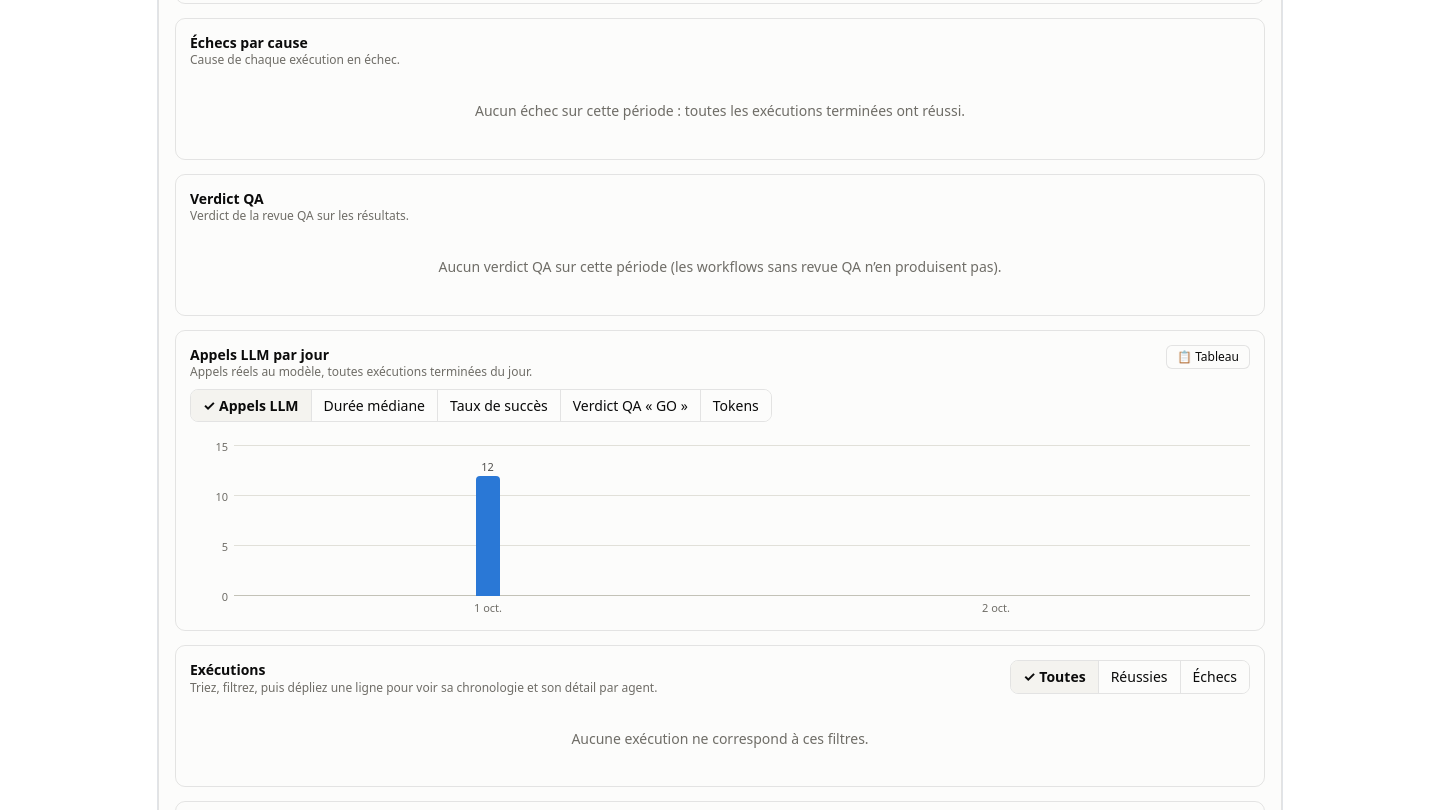
Test case: MetricsPanel — tendances quotidiennes › ne trace pas de colonne un jour sans durée mesurée
The image size is (1440, 810).
(page scrolled)
Expected: the heading "Appels LLM par jour" is shown, [190, 344, 329, 364]
Step 1. Click the button "Durée médiane" → (374,406), box [311, 390, 437, 422]
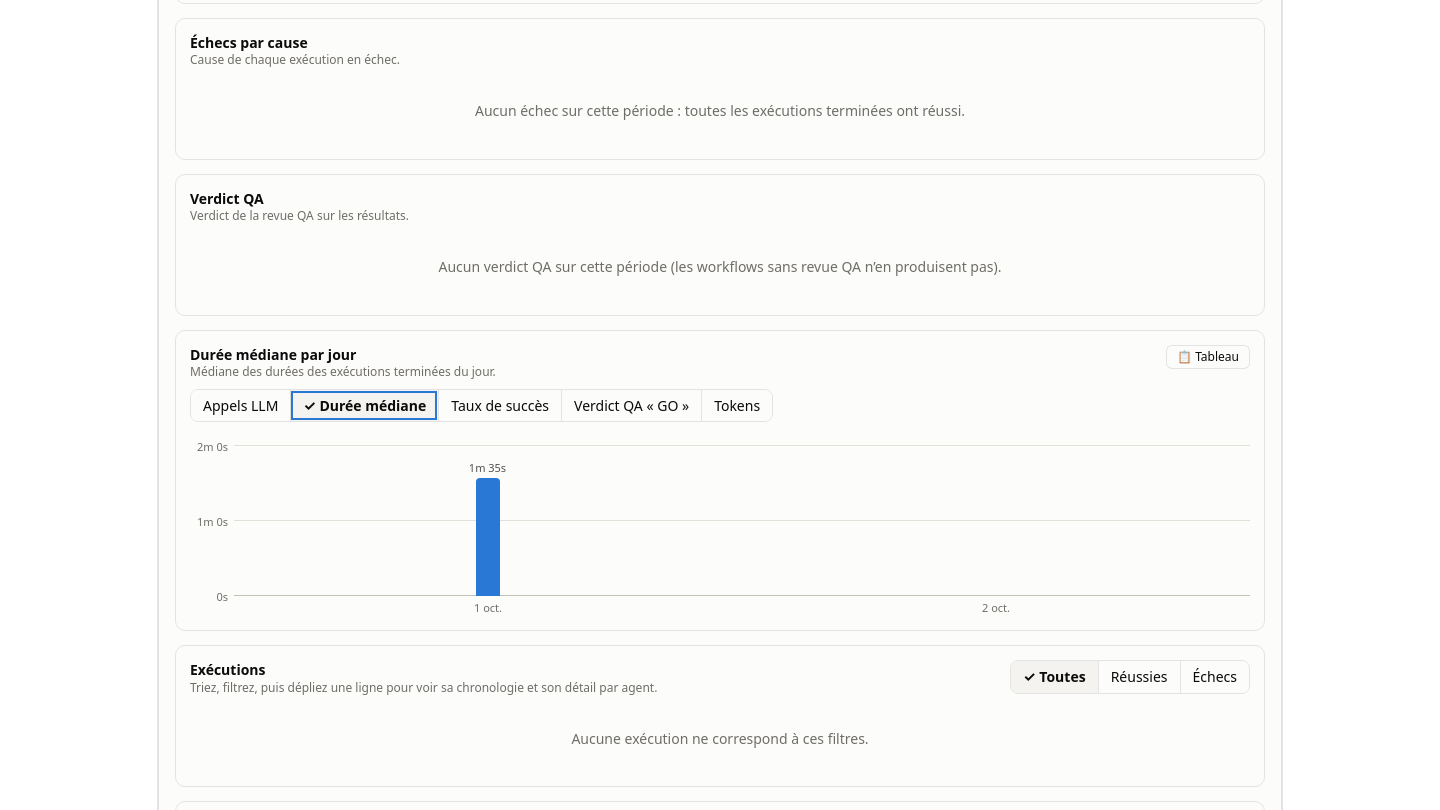
Expected: the element named "2 oct. : Durée médiane aucune donnée" is shown, [743, 446, 1250, 596]
